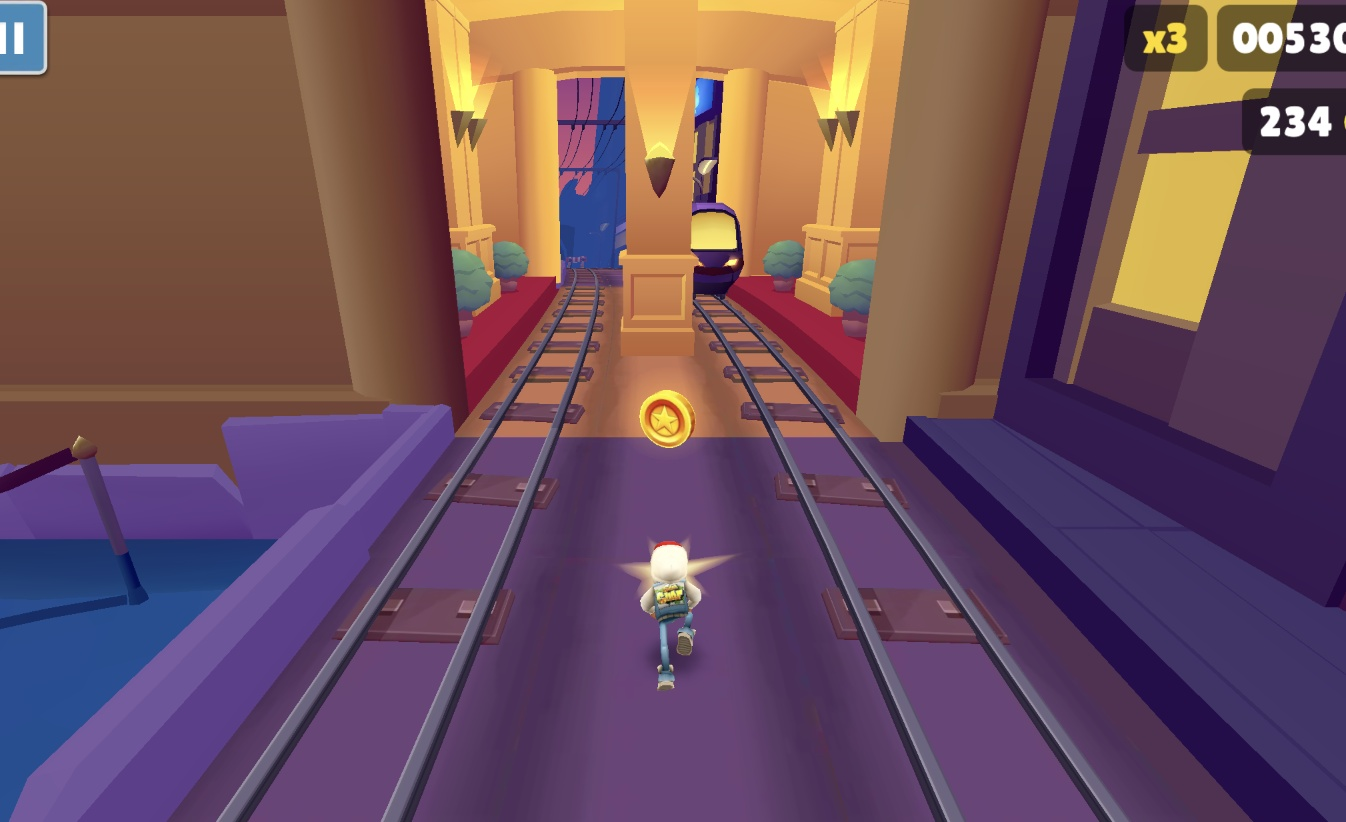pillar: (622, 0, 698, 354)
train: (692, 202, 744, 298)
